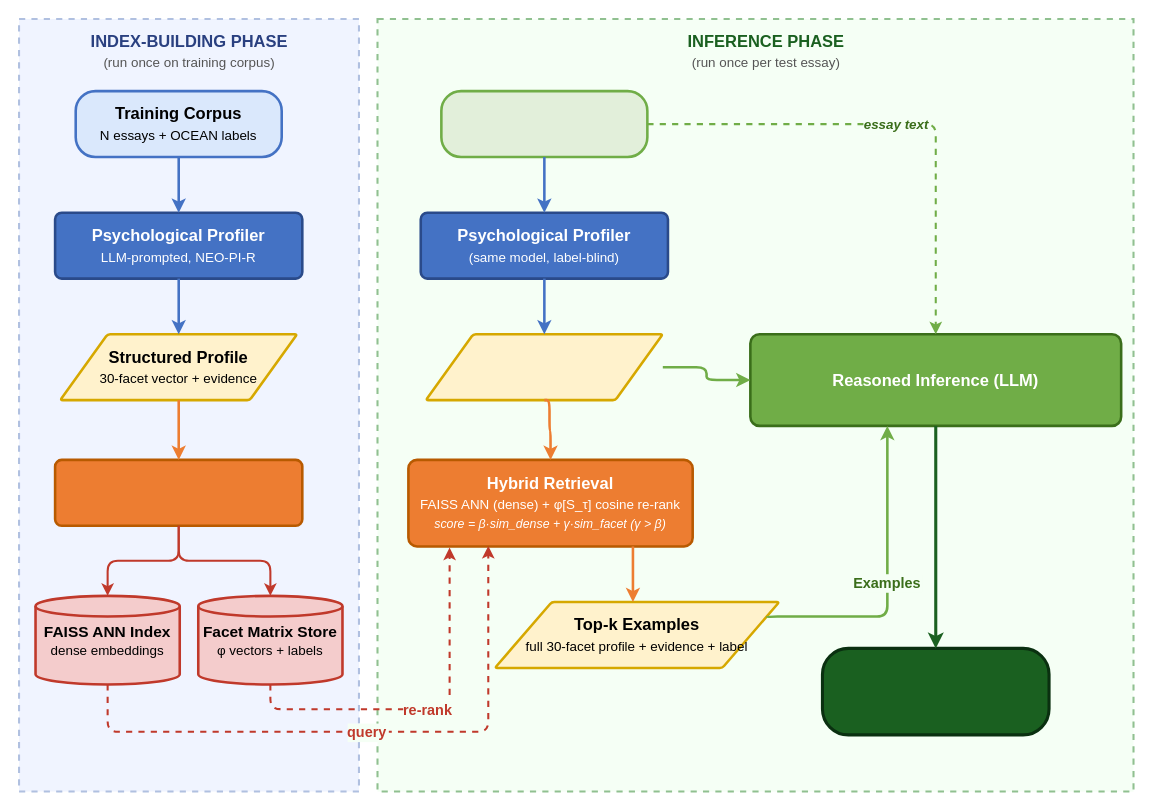
Some shapes in this 1152 by 810 pixel diagram are drawn without their labels. The centre of each missing label's shape, as x and y in pixels:
"Predicted Label high / low per trait (5 total)" goes at pixel 935 691.
"Profile Embedding Sentence encoder → φ(p) ∈ ℝ³⁰" goes at pixel 178 492.
"Test Essay (unlabelled)" goes at pixel 544 123.
"Test Profile 30-facet + φ vector" goes at pixel 544 366.
